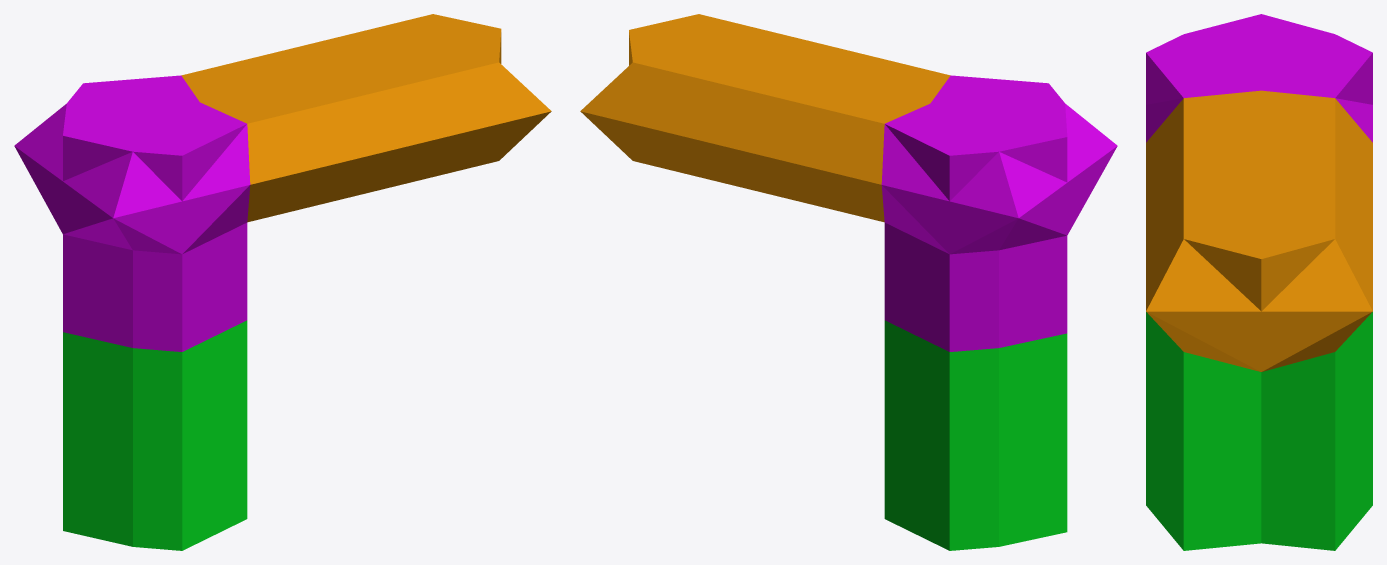
The model's file is tetris1.glb.
The picture shows the model from 3 angles, left to right: view 1: azimuth 30°, elevation 25°; view 2: azimuth 150°, elevation 25°; view 3: azimuth 270°, elevation 25°; orthographic projection. The views are drawn at different scales.
Visible parts, largest first — view 1: Cube-Mat.2, Cube-Mat, Cube-Mat.1; view 2: Cube-Mat.2, Cube-Mat, Cube-Mat.1; view 3: Cube-Mat, Cube-Mat.1, Cube-Mat.2.
Boxes of the visible parts, bbox=[...] form: Cube-Mat.2: bbox=[14, 75, 250, 351]; Cube-Mat: bbox=[181, 14, 551, 222]; Cube-Mat.1: bbox=[63, 320, 247, 550]; Cube-Mat.2: bbox=[881, 75, 1117, 351]; Cube-Mat: bbox=[580, 14, 950, 222]; Cube-Mat.1: bbox=[884, 320, 1067, 550]; Cube-Mat: bbox=[1146, 90, 1372, 371]; Cube-Mat.1: bbox=[1146, 312, 1372, 550]; Cube-Mat.2: bbox=[1146, 14, 1372, 142].
Size of the model in its own units: 53.99 by 46.49 by 21.12.
